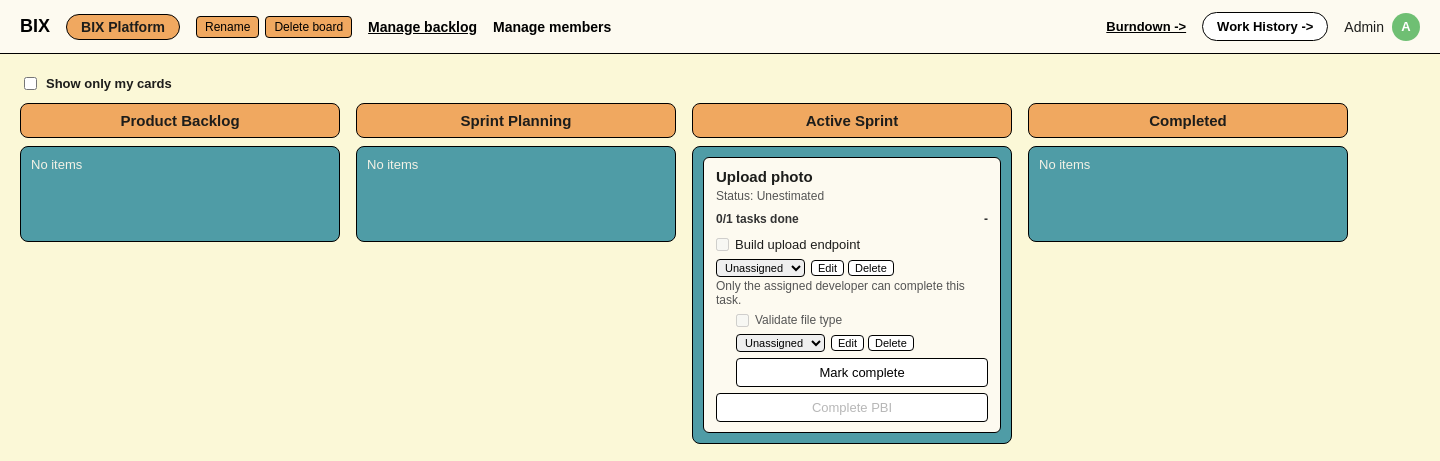
Test: Board page - delete the board (US-04c) › shows an error and stays on the board when the delete fails for another reason
Check: the text "BIX Platform" is shown, box [66,14,180,40]
Click the button "Delete board" at coordinates (309, 26), box [265,16,352,38]
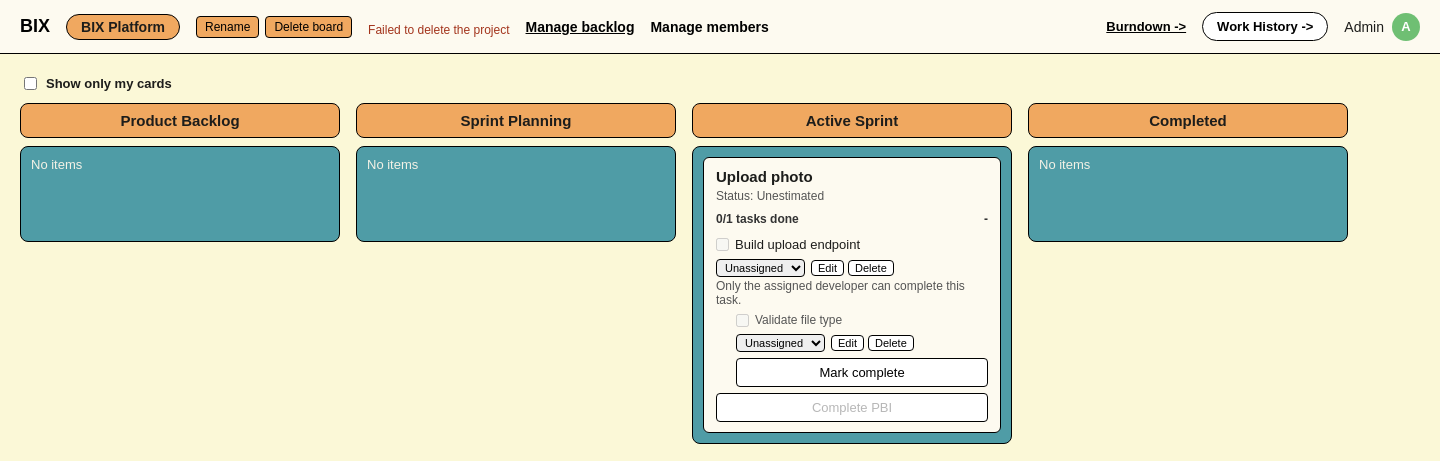
Check: the message reads "Failed to delete the project", box [368,22,510,36]
